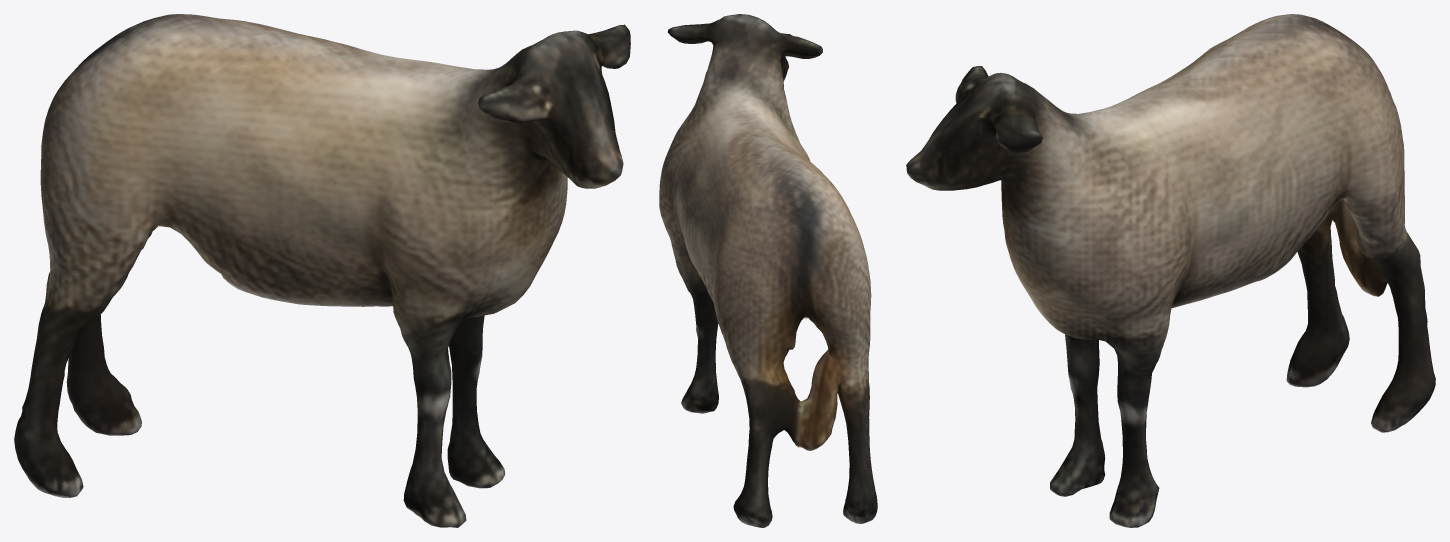
The model's file is joven.glb.
3 views of the same model, side by side, from view 1: azimuth 30°, elevation 25°; view 2: azimuth 150°, elevation 25°; view 3: azimuth 270°, elevation 25° (orthographic). The views are drawn at different scales.
Visible parts, largest first — view 1: mesh; view 2: mesh; view 3: mesh.
Boxes of the visible parts, x1,y1,x2,y2 form: mesh: [14, 14, 630, 527]; mesh: [659, 14, 877, 527]; mesh: [906, 14, 1435, 527].
Bounding box in the file's own units: 1.29 × 1.38 × 1.47.
Materials: 1 (1 with a texture image).
